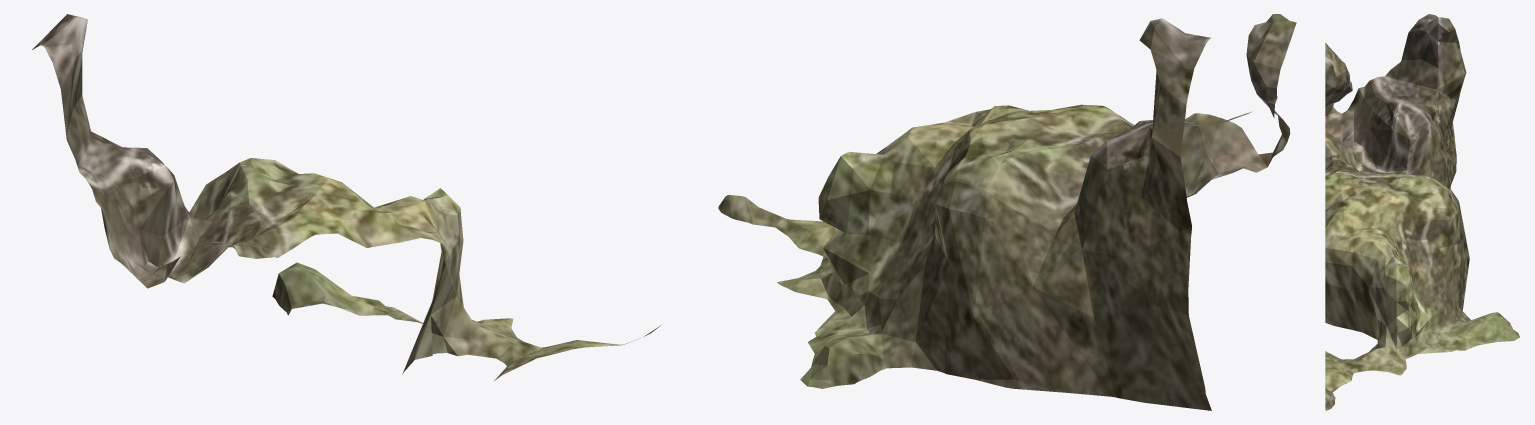
3 views of the same model, side by side, from view 1: azimuth 30°, elevation 25°; view 2: azimuth 150°, elevation 25°; view 3: azimuth 270°, elevation 25° (orthographic). The views are drawn at different scales.
Bounding box in the file's own units: 2.95 × 1.9 × 1.42.
Materials: 2 (2 with a texture image).
